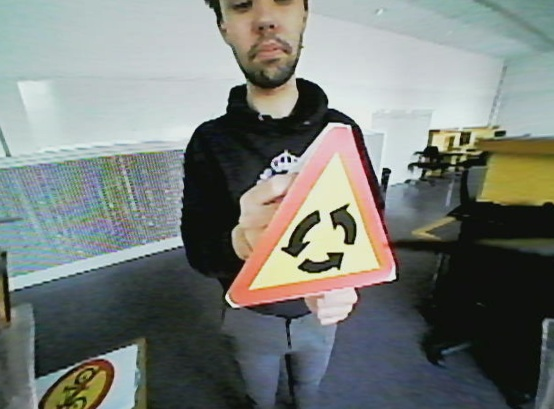roundabout_warning: (219, 118, 402, 312)
